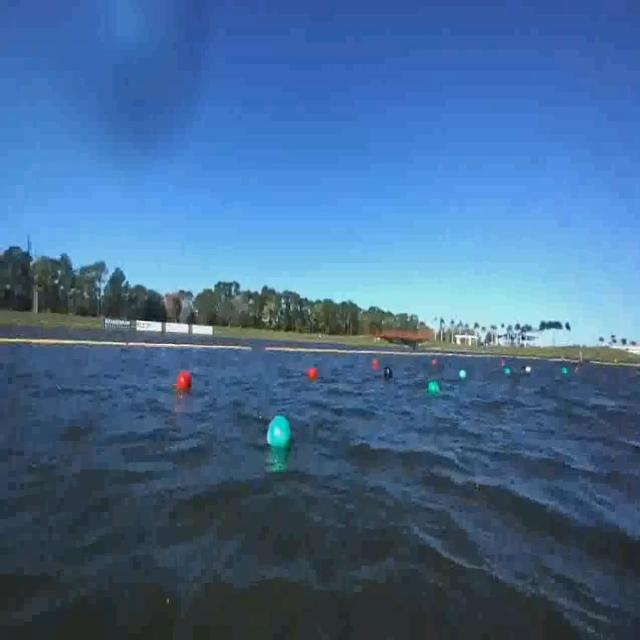black-buoy: (384, 366, 393, 378)
green-buoy: (269, 415, 293, 450), (428, 381, 438, 395), (459, 368, 467, 378), (503, 366, 511, 375)
red-buoy: (179, 369, 195, 391), (306, 366, 315, 379), (372, 358, 378, 369)
